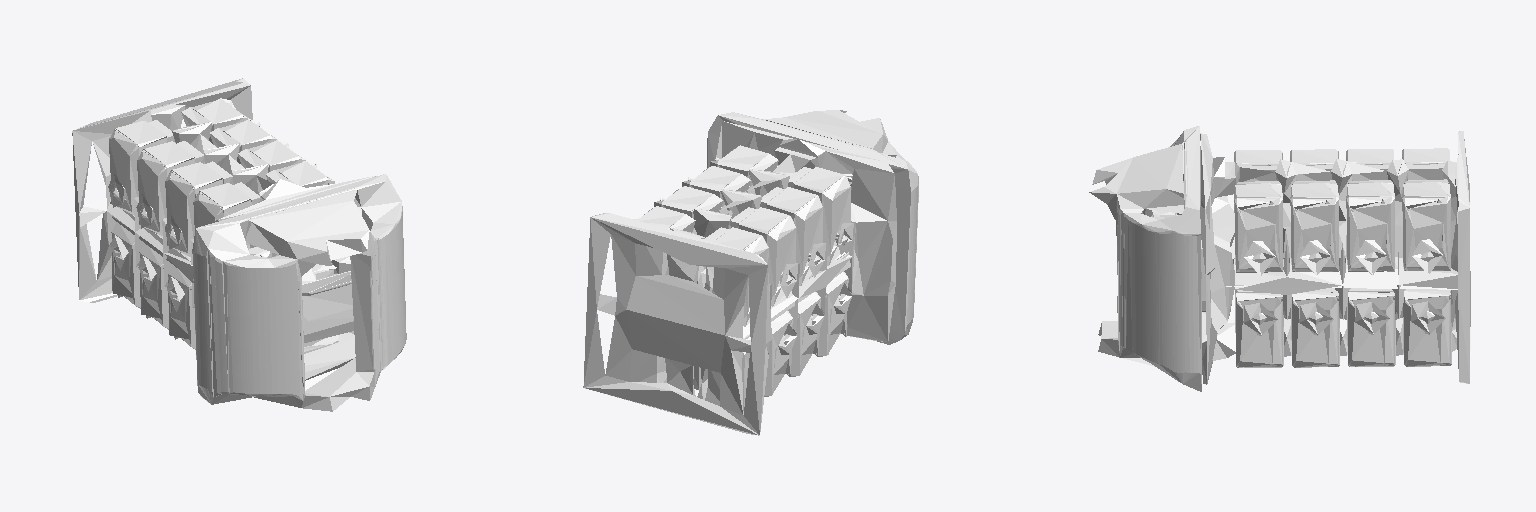
Rendered from right_visual_tower_main_mesh_mesh.obj.
3 views of the same model, side by side, from view 1: azimuth 30°, elevation 25°; view 2: azimuth 150°, elevation 25°; view 3: azimuth 270°, elevation 25° (orthographic).
Size of the model in its own units: 0.0982 by 0.0887 by 0.1569.